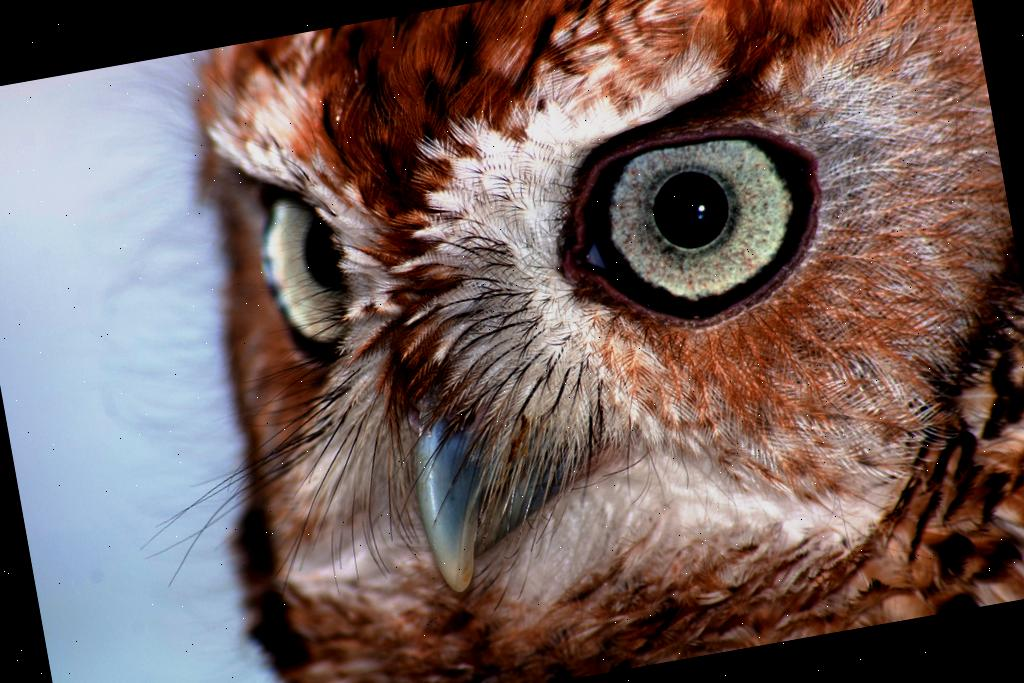Owl: (75, 0, 1024, 683)
